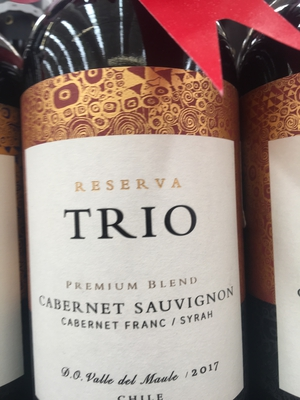trio cabernet sauvignon: (24, 17, 261, 400)
